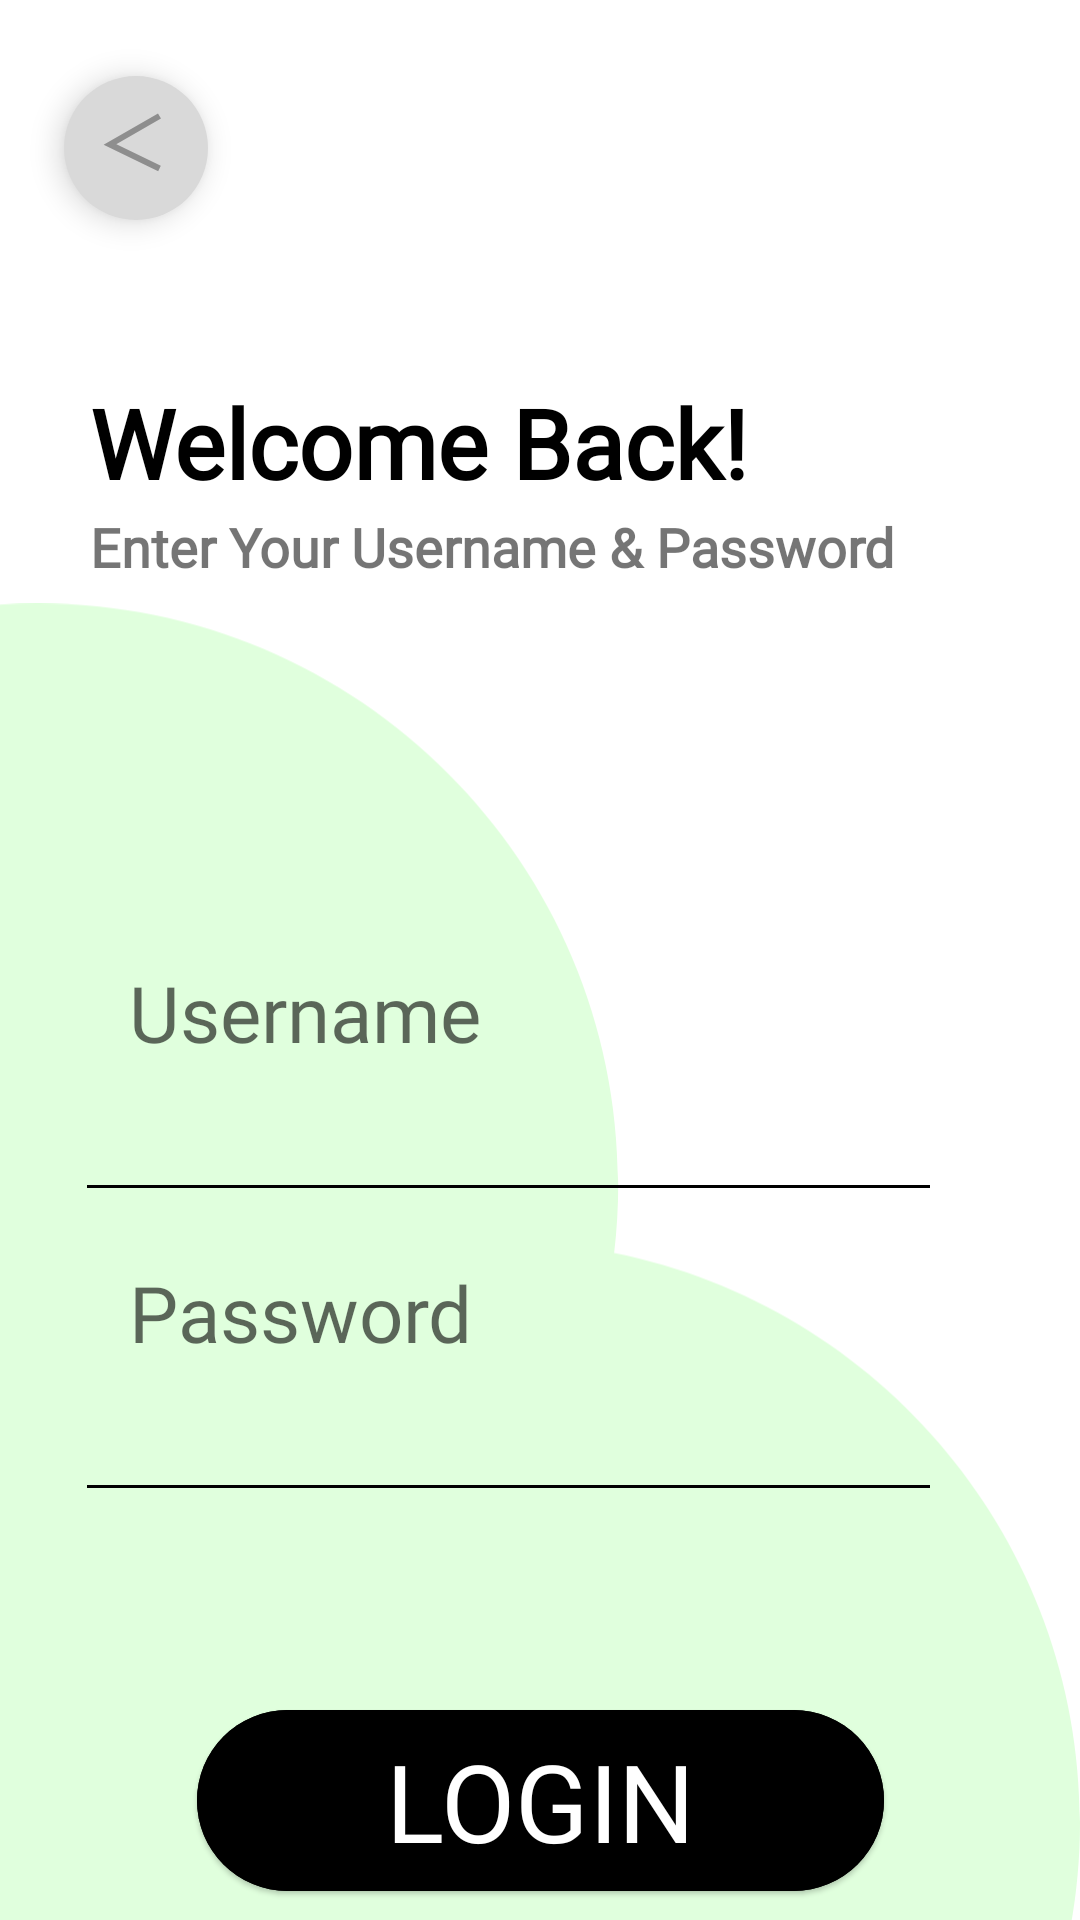

Icon bounding boxes for this 1080w x 1920h phone screenshot, format (x1, y1, x2, y2):
back: (63, 76, 208, 220)
